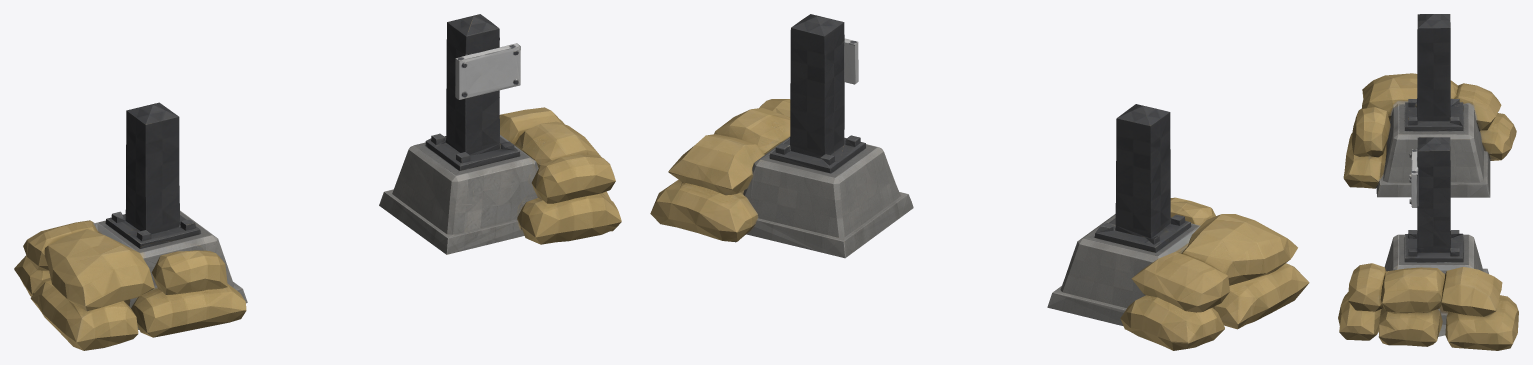
File: S5_checkpoint_a.glb
3 views of the same model, side by side, from view 1: azimuth 30°, elevation 25°; view 2: azimuth 150°, elevation 25°; view 3: azimuth 270°, elevation 25° (orthographic). The views are drawn at different scales.
Visible parts, largest first — view 1: Mesh_0; view 2: Mesh_0; view 3: Mesh_0.
Part boxes in pixels (<box>): Mesh_0: <box>14,14,621,350</box>; Mesh_0: <box>650,14,1309,350</box>; Mesh_0: <box>1338,14,1518,350</box>.
Size of the model in its own units: 3 by 1.02 by 0.9954.
1 material, 1 textured.
